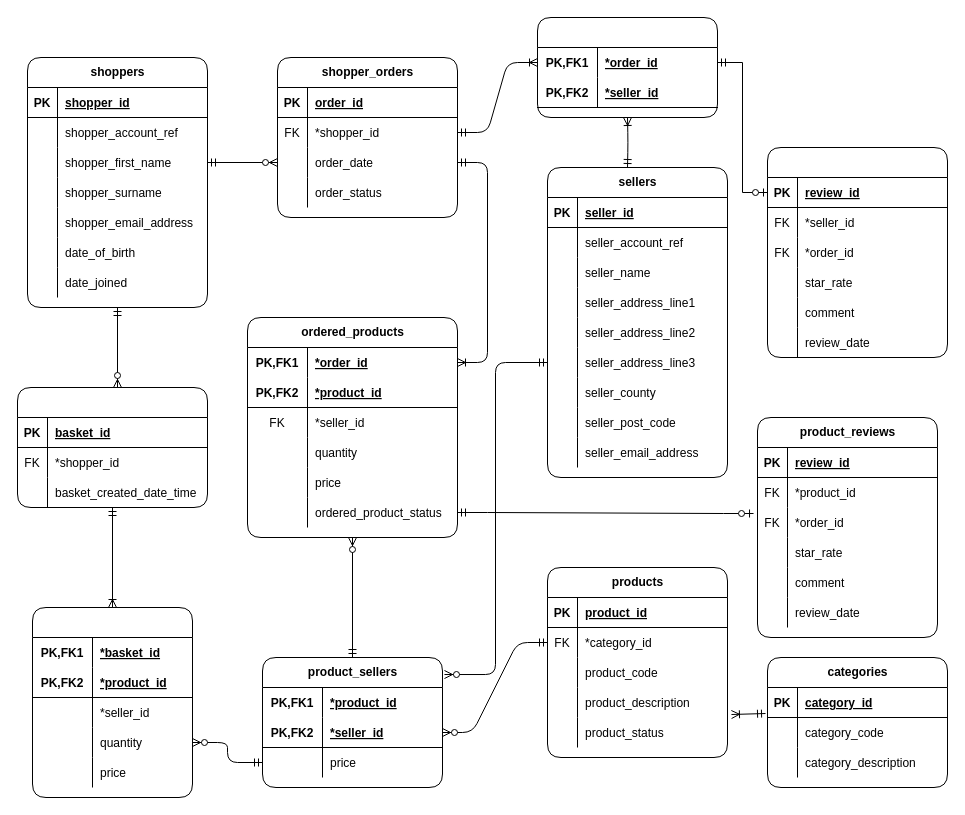
Image size: 965x815. Some labels were removed from this diagram. Each missing label, with the box of its shape:
basket_contents: (32, 606, 192, 798)
seller_orders: (536, 16, 718, 118)
seller_reviews: (766, 146, 948, 358)
shopper_baskets: (16, 386, 208, 508)
